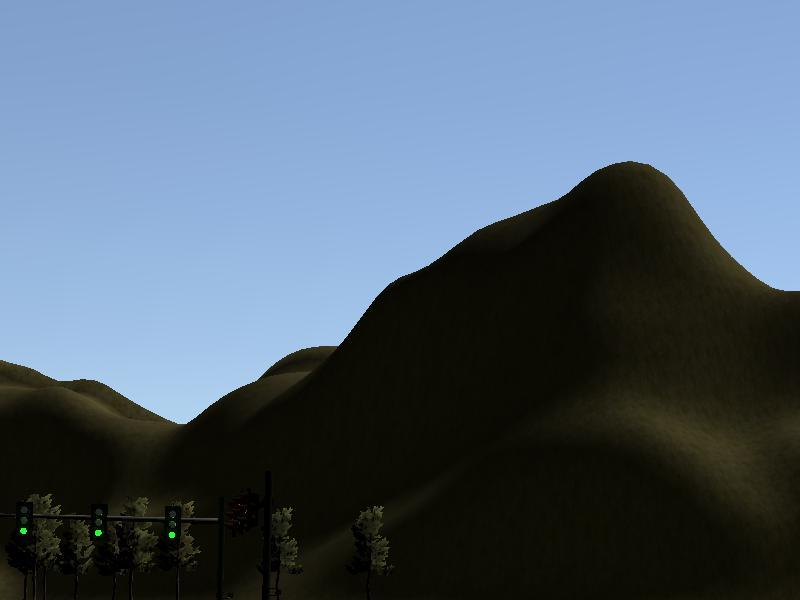Green: (159, 506, 180, 543), (87, 503, 107, 541), (18, 500, 35, 543)
